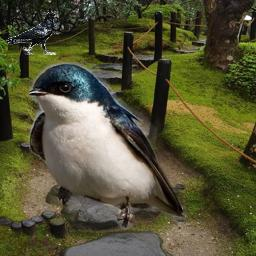Crow: (6, 12, 59, 55)
Swallow: (29, 62, 187, 230)
